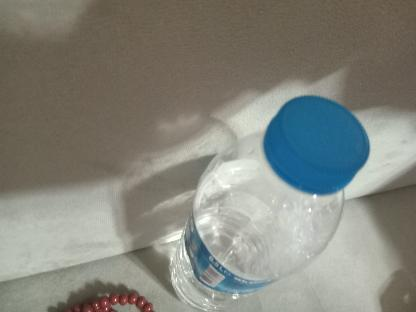Plastic Bottle: (162, 84, 369, 310)
